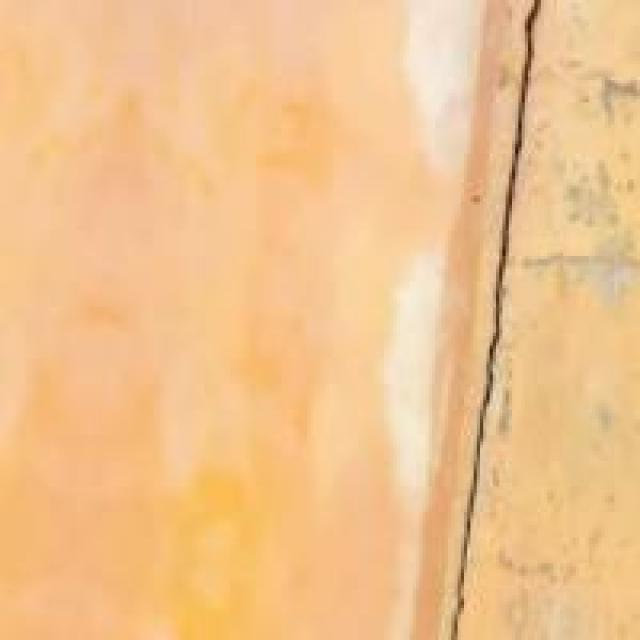crack: (444, 0, 602, 637)
